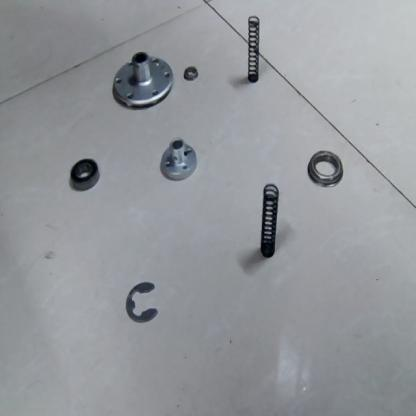FOD: (109, 49, 175, 110), (257, 181, 283, 264), (157, 137, 199, 184), (124, 277, 161, 325), (305, 148, 346, 188), (245, 12, 262, 90), (67, 158, 101, 196), (182, 61, 199, 83)
